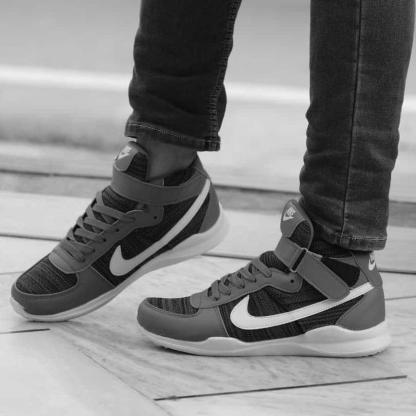ankle: (167, 173, 173, 179), (327, 257, 332, 262)
heel: (216, 205, 222, 210), (379, 317, 385, 322)
left_foot: (138, 232, 394, 359)
pinky: (24, 275, 33, 281), (186, 337, 190, 340)
right_foot: (15, 160, 232, 309)
toe: (44, 296, 58, 304), (149, 310, 152, 313)
